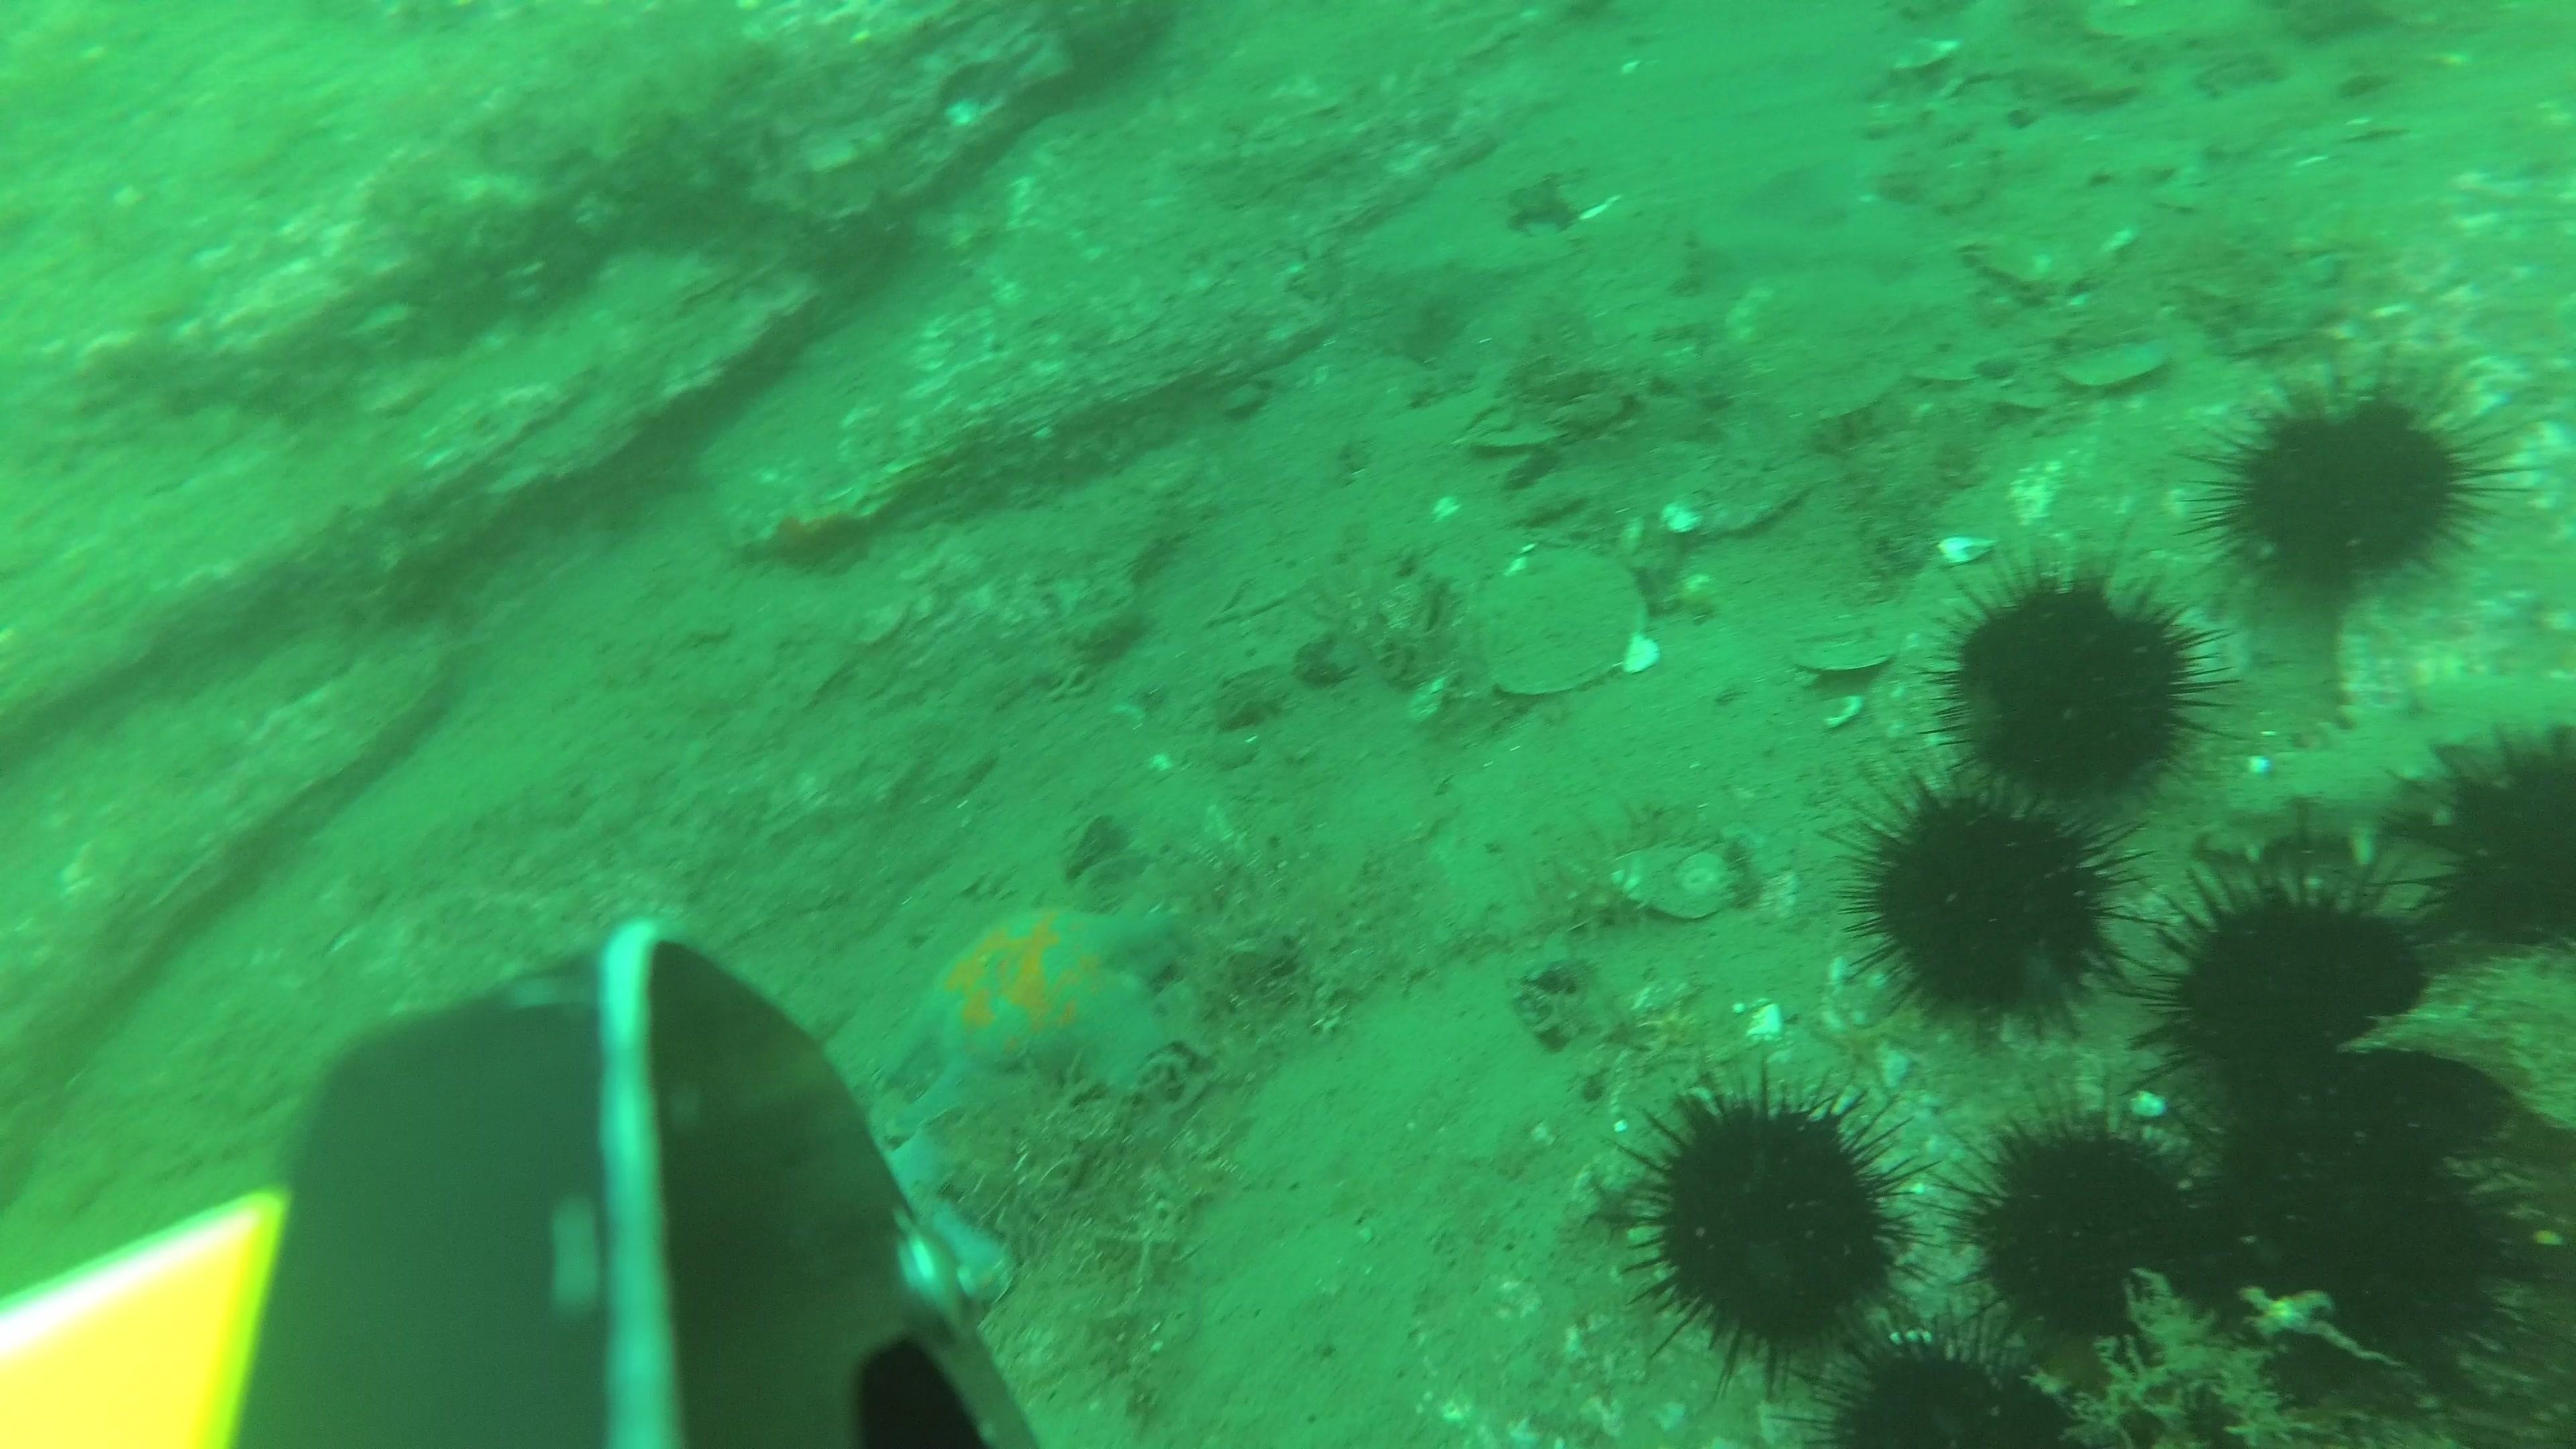echinus: (2196, 1100, 2537, 1415), (1606, 1069, 1927, 1391), (2137, 847, 2452, 1150), (2190, 363, 2512, 612), (1838, 773, 2143, 1037), (1923, 552, 2229, 812), (1941, 1099, 2206, 1353), (2401, 711, 2572, 964), (1806, 1325, 2088, 1444)
holothurian: (2203, 667, 2565, 872)
scallop: (1460, 543, 1649, 702), (1612, 830, 1744, 925), (1792, 621, 1895, 679)
starfish: (908, 892, 1192, 1118)
